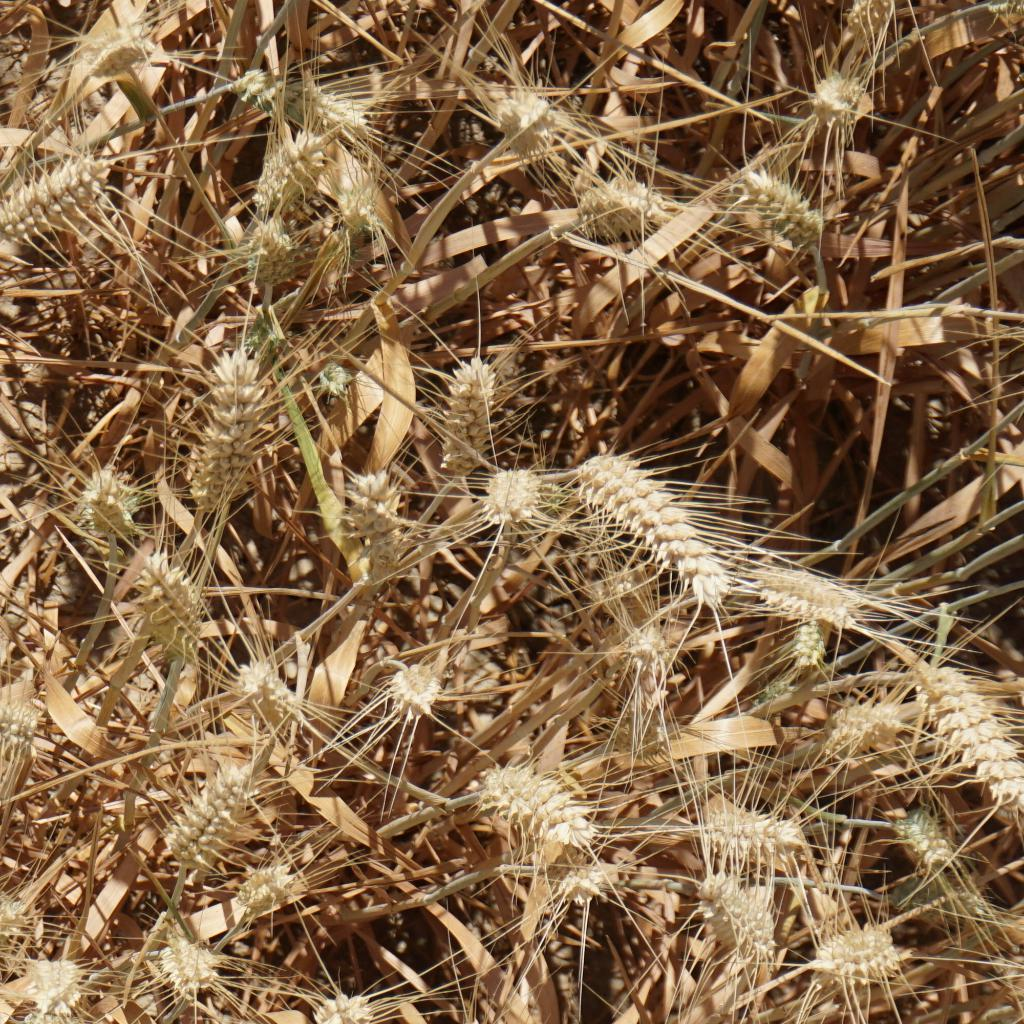0-0: (586, 437, 728, 596), (915, 659, 1021, 815), (215, 62, 382, 133), (750, 159, 854, 273), (185, 360, 267, 496), (0, 139, 104, 244), (149, 754, 246, 856), (756, 537, 864, 624), (344, 458, 423, 567), (817, 669, 903, 758), (476, 772, 590, 838), (120, 555, 206, 642), (697, 880, 774, 974), (693, 793, 799, 860), (149, 923, 230, 1006), (811, 923, 905, 992), (4, 947, 82, 1024), (444, 362, 504, 462), (222, 842, 303, 915), (251, 125, 325, 204), (586, 169, 665, 242), (898, 801, 965, 886), (232, 655, 305, 726), (244, 210, 297, 303), (474, 456, 543, 525), (777, 598, 819, 707), (498, 78, 563, 147), (620, 608, 673, 691), (275, 78, 354, 132), (92, 25, 159, 88), (74, 470, 132, 541), (809, 60, 880, 114), (379, 655, 446, 709), (342, 185, 393, 249), (0, 683, 35, 761), (309, 986, 368, 1024), (449, 1004, 519, 1024)
